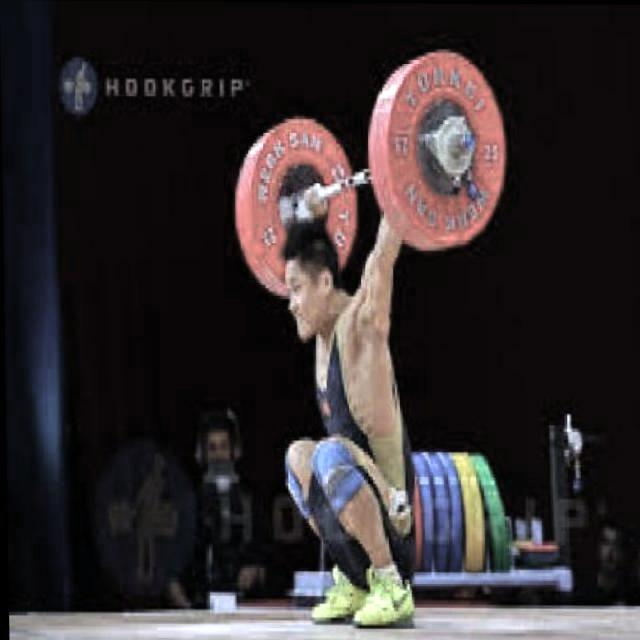barbell: (377, 45, 515, 247)
